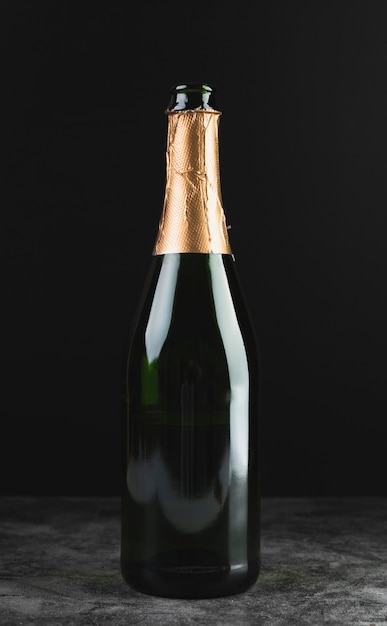alcohol: (119, 82, 260, 599)
